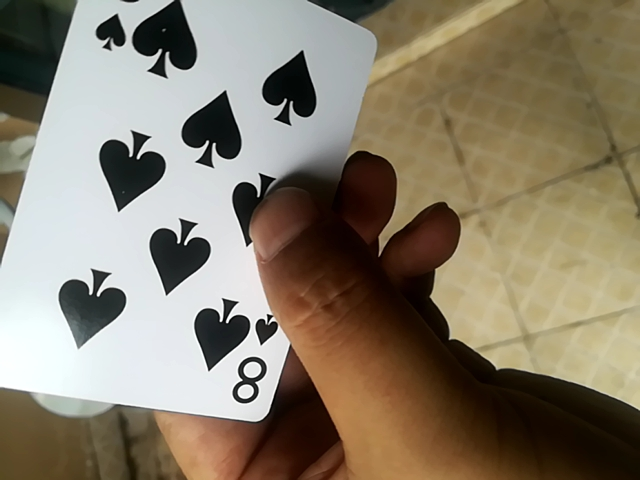ht 8: (4, 4, 390, 427)
